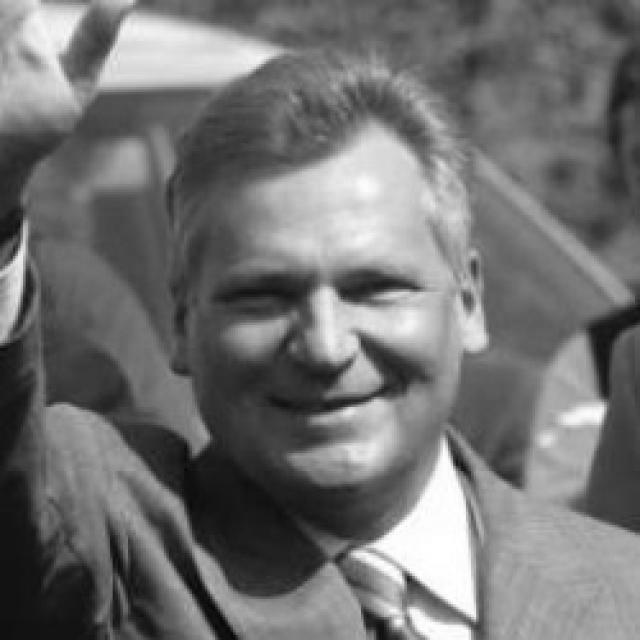real: (181, 54, 477, 508), (205, 262, 438, 316)
